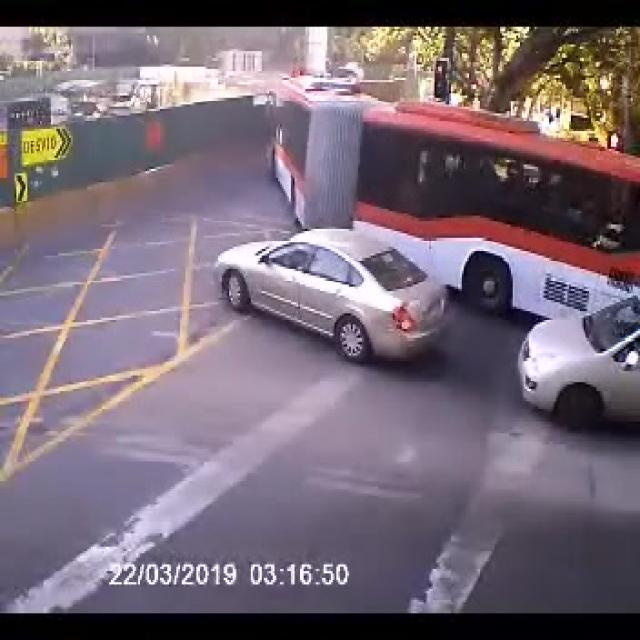AB: (263, 68, 640, 333)
